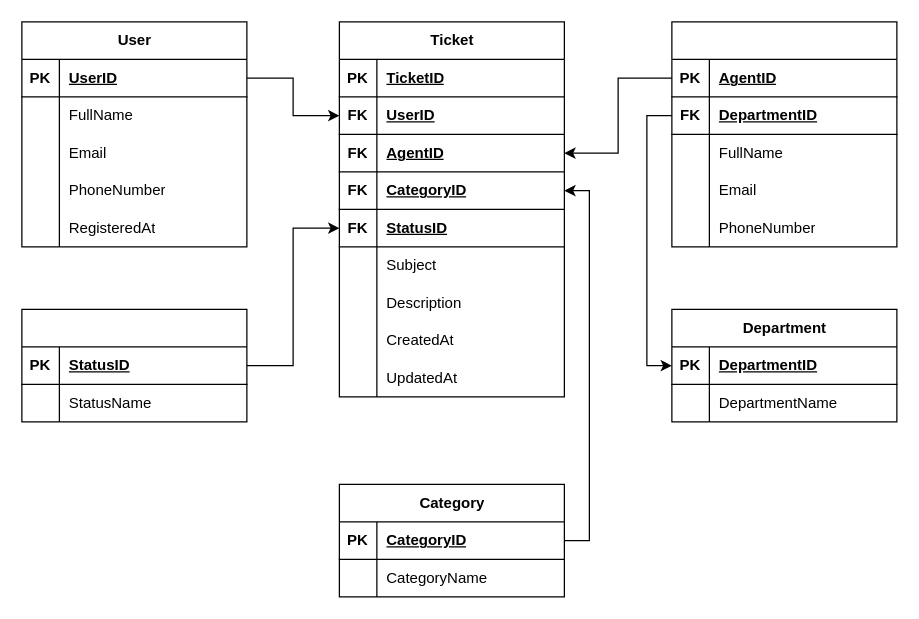
This 919x619 diagram has some shape labels left out. The shapes that lost their labels are listed below. From the top down, each one's box as (x1, y1, x2, y2) in pixels, then its label:
(671, 21, 897, 247): SupportAgent
(21, 308, 247, 422): TicketStatus
